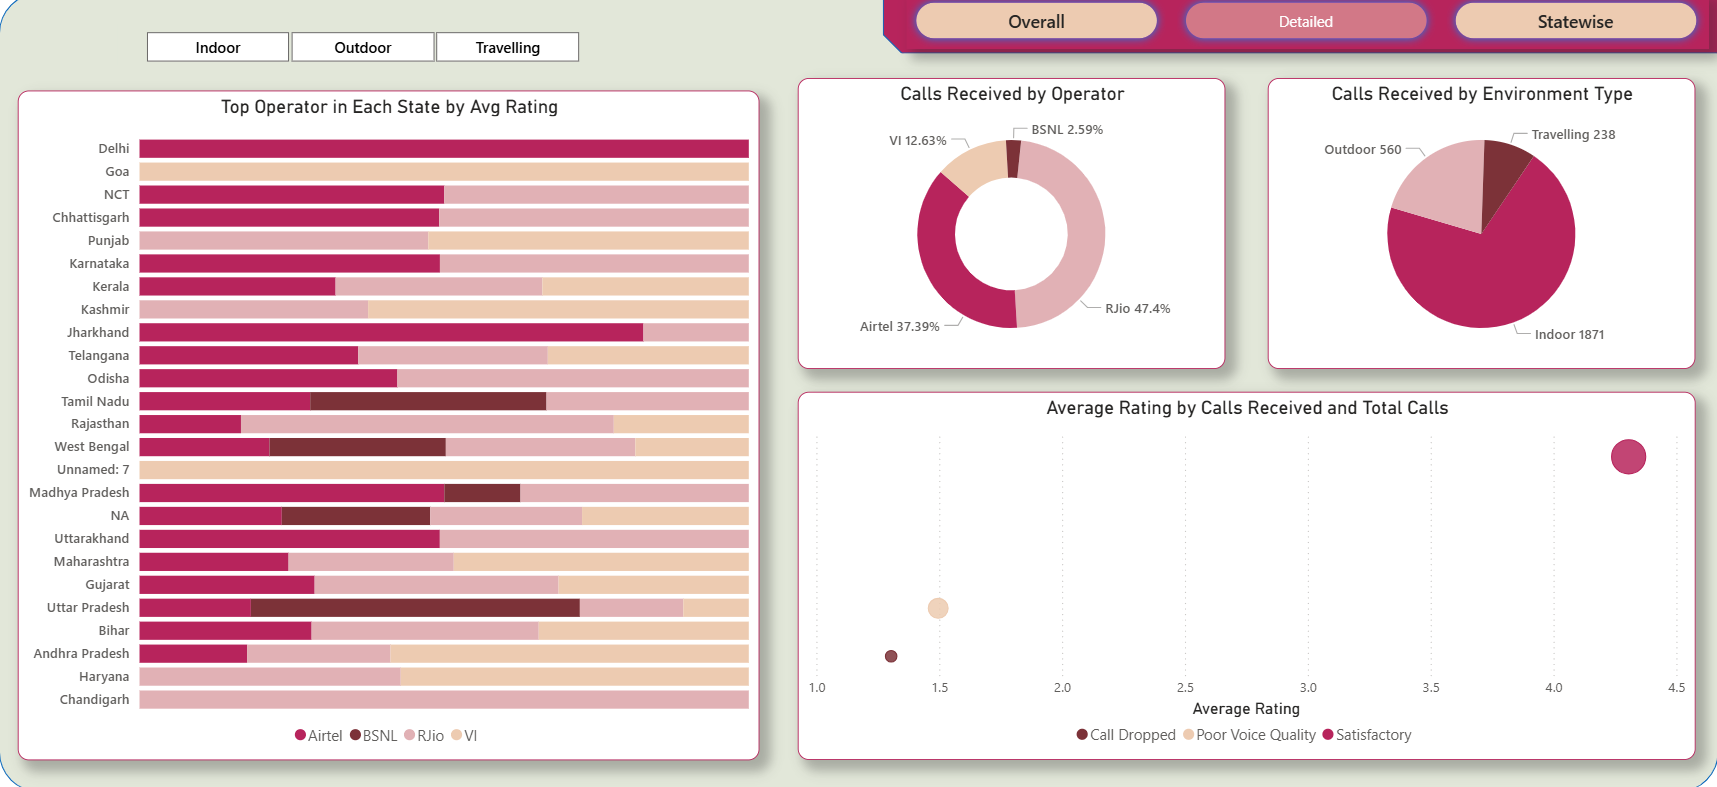

This screenshot's page, from the dashboard's own definition file:
{"tool":"powerbi","page":{"name":"Detailed","canvas":[1550,720],"ordinal":1},"visuals":[{"type":"shape","box":[0,0,1550.6,720.6],"z":0,"group":"g1"},{"type":"hundredPercentStackedBarChart","title":"Top Operator in Each State by Avg Rating","fields":{"Category":["Final.state_name"],"Series":["Final.operator"],"Y":["Final.Average Rating"]},"box":[16.4,87.5,668.6,604.4],"z":1000,"group":"g1"},{"type":"scatterChart","title":"Average Rating by Calls Received and Total Calls","fields":{"X":["Avg(Final.rating)"],"Series":["Final.calldrop_category"],"Size":["Final.NumberOfCalls"],"Y":["Final.CategoryRate"]},"box":[720.6,359.6,809.5,332.3],"z":2000,"group":"g1"},{"type":"shape","box":[797,0,753.4,54.7],"z":3000,"group":"g2"},{"type":"slicer","fields":{"Values":["Final.inout_travelling"]},"box":[106.7,28.7,440.3,36.9],"z":3000,"group":"g1"},{"type":"donutChart","title":"Calls Received by Operator","fields":{"Category":["Final.operator"],"Y":["Final.NumberOfCalls"]},"box":[720.6,76.6,385.6,262.5],"z":4000,"group":"g1"},{"type":"pieChart","title":"Calls Received by  Environment Type","fields":{"Y":["CountNonNull(Final.network_type)"],"Category":["Final.inout_travelling","Final.operator"]},"box":[1144.5,76.6,385.6,262.5],"z":5000,"group":"g1"},{"type":"group","id":"g1","title":"Group 2","box":[0,0,1550.6,720.6],"z":6001},{"type":"group","id":"g2","title":"Group 1","box":[797,0,753.3,55],"z":6501},{"type":"pageNavigator","box":[818.9,0,723.3,50.6],"z":8001,"group":"g2"}]}

Visuals, with their boxes in screenshot pixels (x1, y1, x2, y2), scaled from the page's 1550x720 canvas onto the 1717x787 screenshot:
shape: 0,0,1716,786
"Top Operator in Each State by Avg Rating" hundredPercentStackedBarChart: 18,96,759,756
"Average Rating by Calls Received and Total Calls" scatterChart: 798,393,1695,756
shape: 883,0,1716,60
slicer - Final.inout_travelling: 118,31,606,72
"Calls Received by Operator" donutChart: 798,84,1225,371
"Calls Received by  Environment Type" pieChart: 1268,84,1695,371
"Group 2" group: 0,0,1716,786
"Group 1" group: 883,0,1716,60
pageNavigator: 907,0,1708,55
